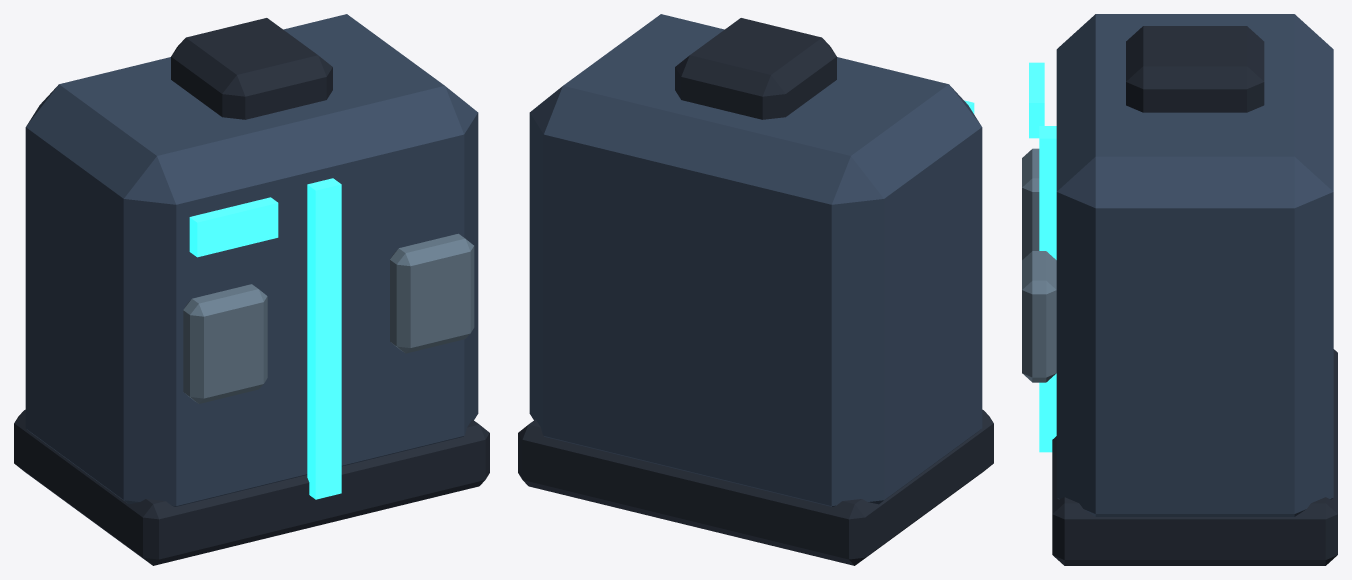
Rendered from SM_NPC_Torso_001_JacketMale.glb.
3 renders of one model, left to right at view 1: azimuth 30°, elevation 25°; view 2: azimuth 150°, elevation 25°; view 3: azimuth 270°, elevation 25°, orthographic.
Visible parts, largest first — view 1: SM_NPC_Torso_001_JacketMale; view 2: SM_NPC_Torso_001_JacketMale; view 3: SM_NPC_Torso_001_JacketMale.
Boxes of the visible parts, bbox=[...] form: SM_NPC_Torso_001_JacketMale: bbox=[14, 14, 489, 565]; SM_NPC_Torso_001_JacketMale: bbox=[518, 14, 993, 565]; SM_NPC_Torso_001_JacketMale: bbox=[1022, 14, 1337, 565].
Bounding box in the file's own units: 0.48 × 0.56 × 0.365.
